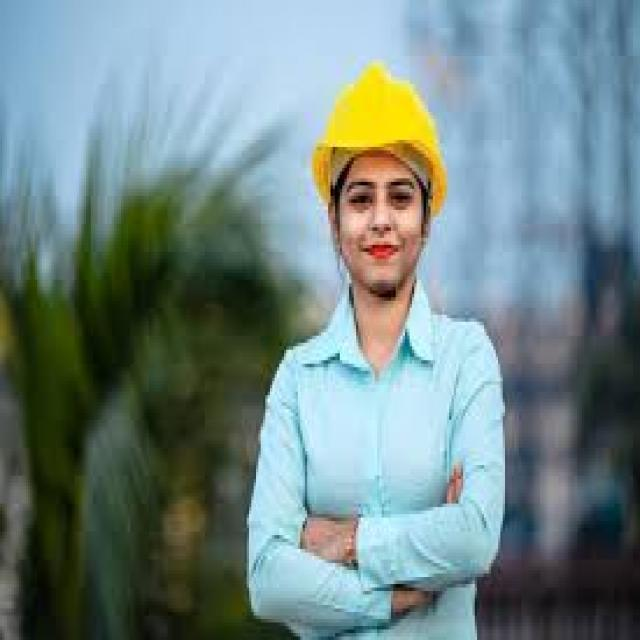safety_helmet: (306, 56, 449, 210)
